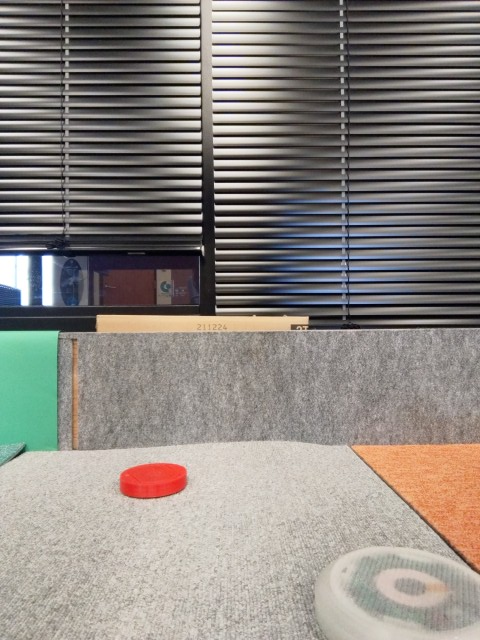o: (302, 539, 480, 640)
